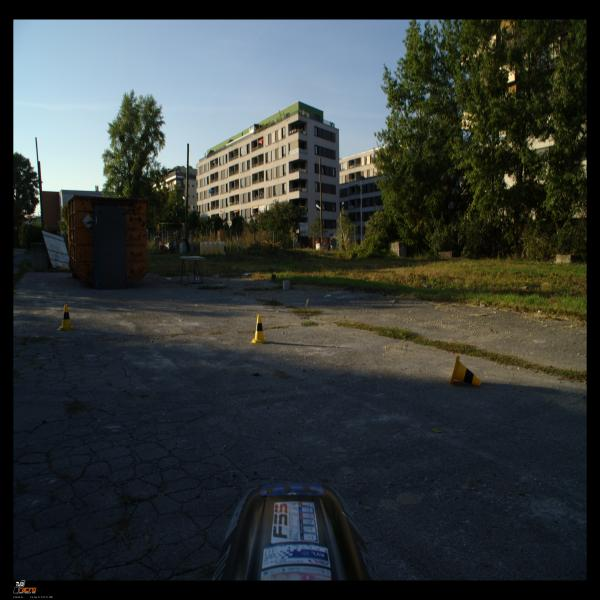yellow_cone: (450, 355, 481, 386), (250, 314, 268, 344), (57, 304, 75, 331)
